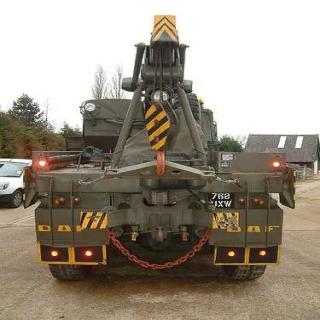Towing_truck: (21, 14, 297, 282)
